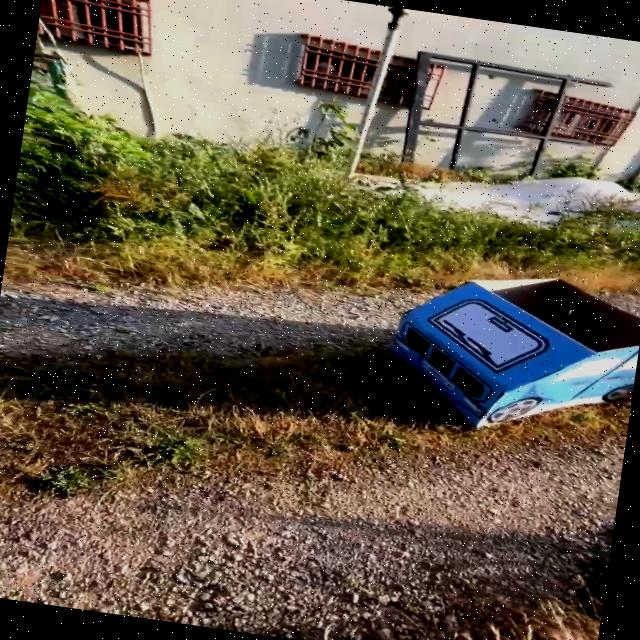blue_car: (321, 223, 640, 481)
